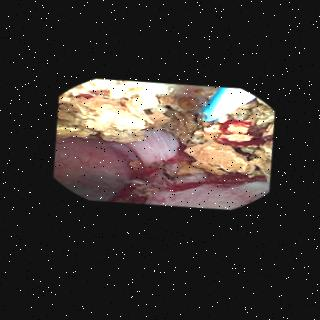fiber: (197, 90, 252, 121)
stone: (56, 81, 270, 180), (173, 162, 202, 175), (126, 161, 140, 171)
